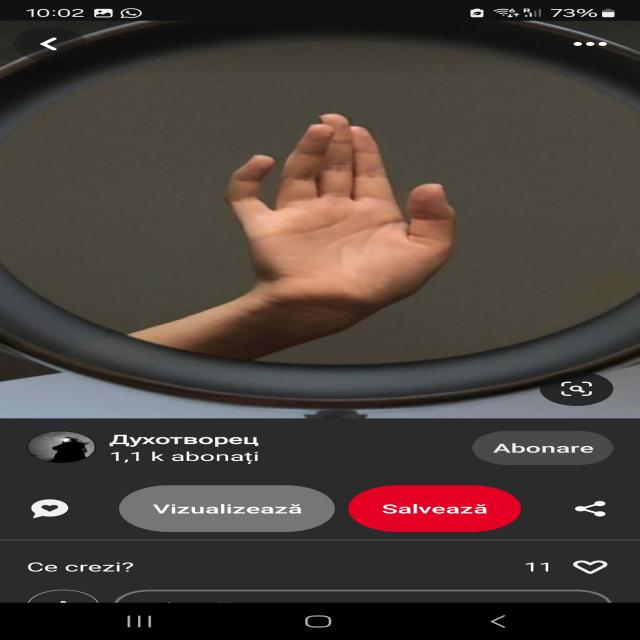hands: (172, 61, 530, 341)
